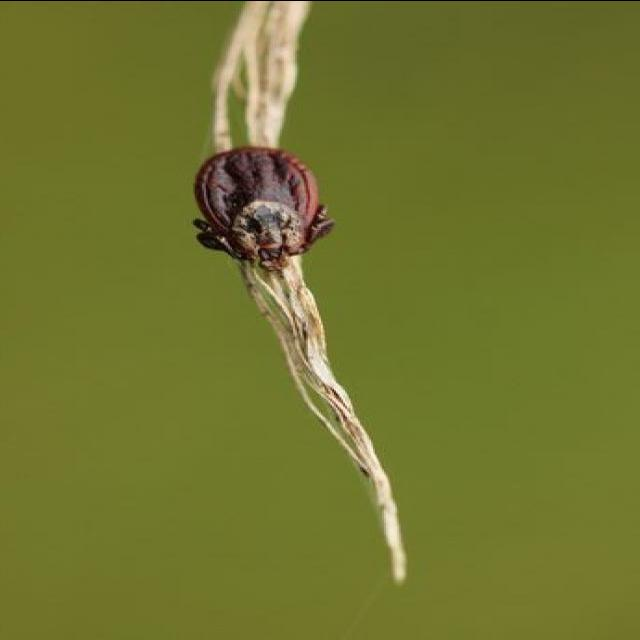Dermacentor Reticulatus-F: (195, 146, 334, 268)
